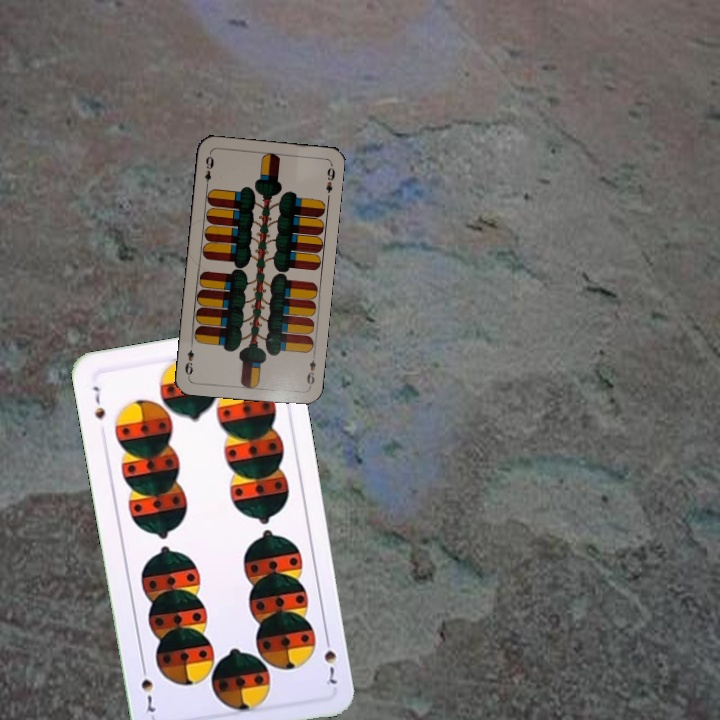E9: (303, 349, 319, 390), (201, 150, 216, 191)
S7: (320, 631, 340, 688), (88, 382, 108, 422)
